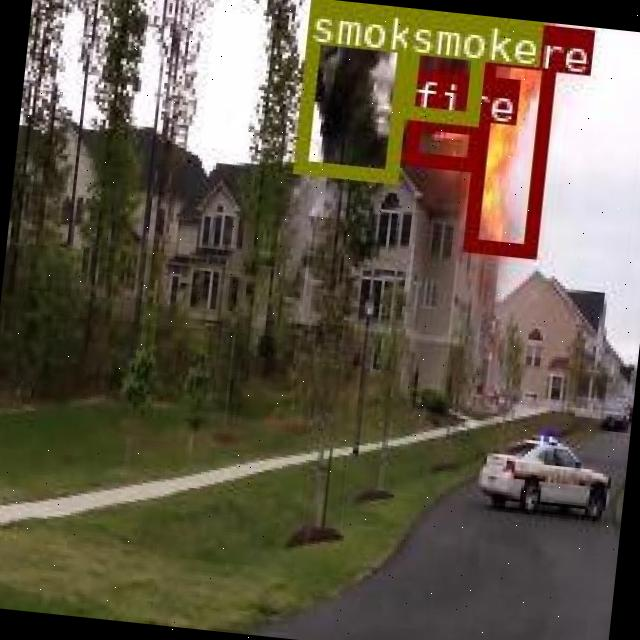fire: (462, 17, 557, 256), (401, 114, 482, 170)
smoke: (290, 0, 411, 181), (398, 8, 486, 121)
